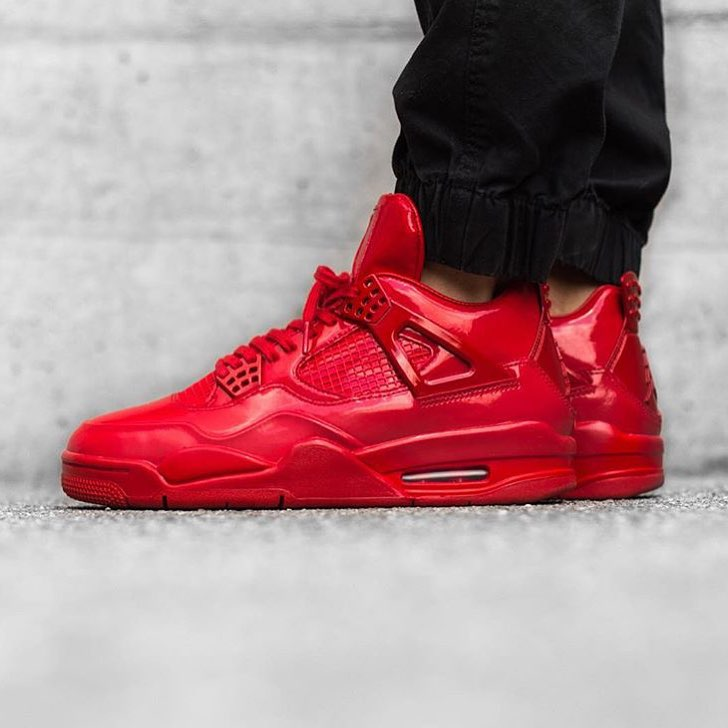sneaker: (33, 165, 596, 536), (498, 241, 684, 531)
